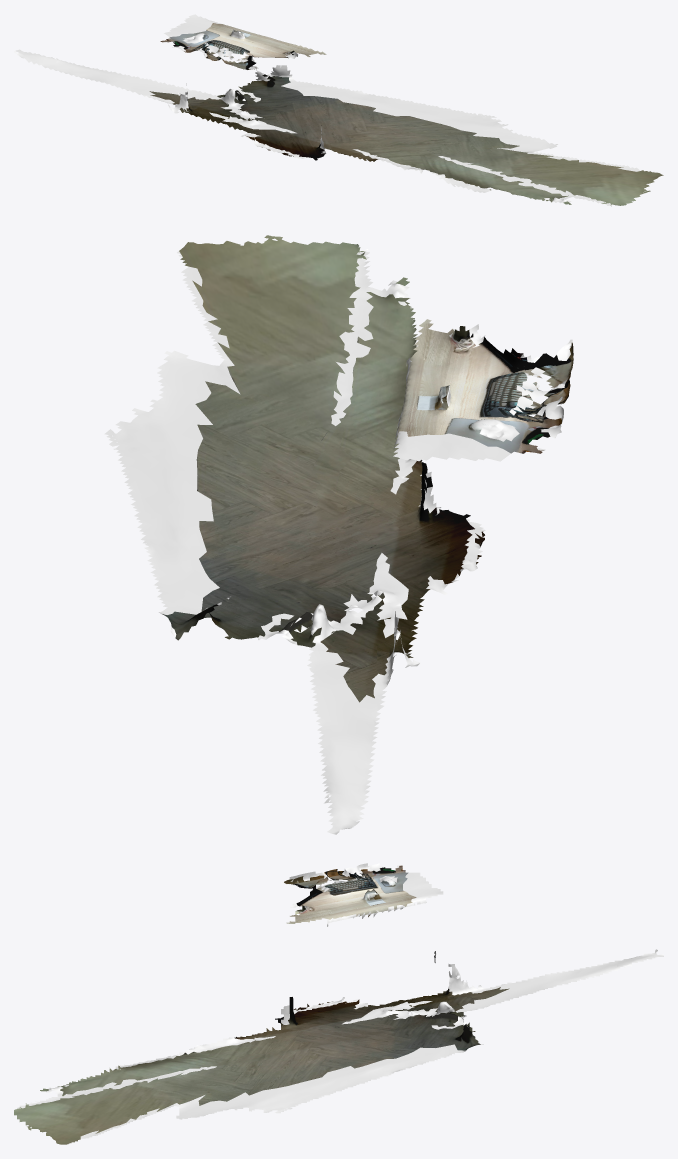
3 views of the same model, one above another, from view 1: azimuth 30°, elevation 25°; view 2: azimuth 150°, elevation 25°; view 3: azimuth 270°, elevation 25° (orthographic). The views are drawn at different scales.
Parts seen in each view (by area): view 1: texture_0, object 1; view 2: texture_0, object 1; view 3: texture_0, object 1.
Part boxes in pixels (x1,y1,x2,y2): texture_0: [149, 23, 663, 205]; object 1: [14, 14, 658, 206]; texture_0: [162, 235, 573, 702]; object 1: [104, 249, 572, 834]; texture_0: [14, 865, 509, 1144]; object 1: [18, 863, 663, 1144].
Size of the model in its own units: 3.08 by 0.8659 by 4.48.
Materials: 2 (1 with a texture image).
